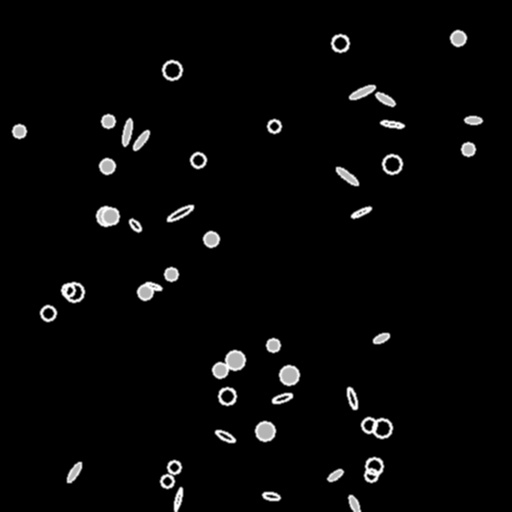pseudomonas: (166, 203, 194, 223), (335, 165, 359, 187), (348, 83, 376, 101), (131, 129, 151, 151), (65, 461, 83, 483), (214, 428, 236, 444), (375, 91, 395, 107), (121, 119, 133, 145), (350, 205, 372, 219), (346, 386, 358, 410), (347, 494, 361, 512), (272, 392, 292, 404), (327, 468, 343, 482), (128, 217, 142, 233), (173, 488, 183, 510), (372, 332, 390, 344), (262, 491, 280, 501), (381, 120, 403, 128), (145, 281, 161, 291), (464, 117, 482, 123)
synechocystis: (163, 61, 181, 79), (226, 351, 244, 369), (65, 283, 83, 301), (373, 419, 391, 437), (280, 366, 298, 384), (97, 207, 115, 225), (256, 422, 274, 440), (383, 155, 401, 173), (332, 35, 348, 51), (219, 388, 235, 404), (366, 458, 382, 474), (102, 208, 118, 224), (451, 31, 465, 45), (41, 306, 55, 320), (138, 285, 152, 299), (204, 232, 218, 246), (191, 153, 205, 167), (213, 363, 227, 377), (362, 418, 376, 432), (100, 159, 114, 173), (62, 284, 74, 296), (102, 115, 114, 127), (165, 268, 177, 280), (268, 120, 280, 132), (161, 475, 173, 487), (267, 339, 279, 351), (365, 469, 377, 481), (168, 461, 180, 473), (462, 143, 474, 155), (13, 125, 25, 137)
